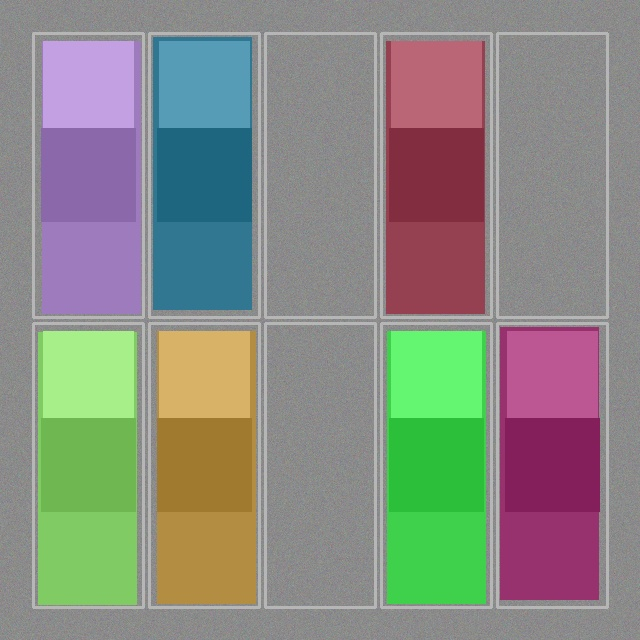space-empty: (267, 35, 373, 315), (499, 35, 605, 315), (267, 325, 373, 605)
space-occupied: (35, 35, 141, 315), (151, 35, 257, 315), (383, 35, 489, 315), (35, 325, 141, 605), (151, 325, 257, 605), (383, 325, 489, 605), (499, 325, 605, 605)
